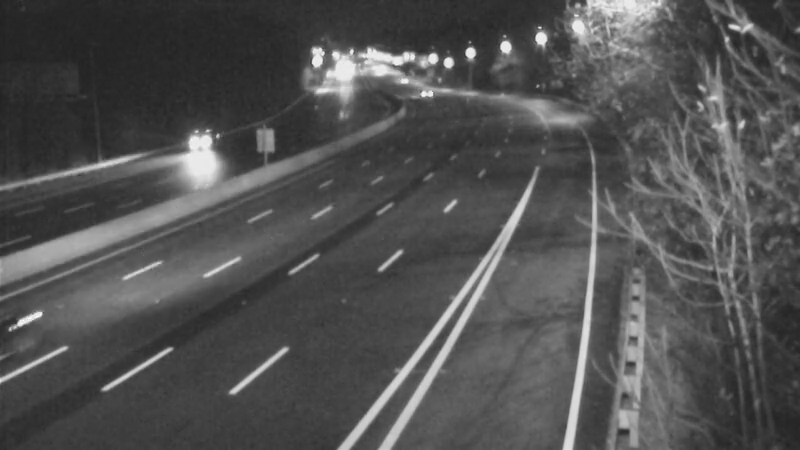vehicle: (396, 66, 446, 116), (174, 122, 224, 172)
